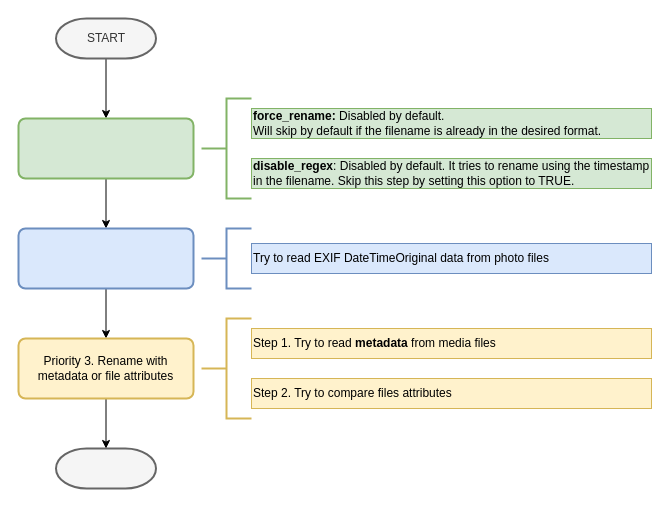
The diagram is 669 pixels wide and 506 high, and some of its shapes have lost their labels. The shapes that lost their labels are listed below. From the top down, each one's centre as x and y in pixels, then its label:
the point at 105,148: Priority 1. Rename with datetime from filename
the point at 105,258: Priority 2. Rename with EXIF Info
the point at 105,468: END
